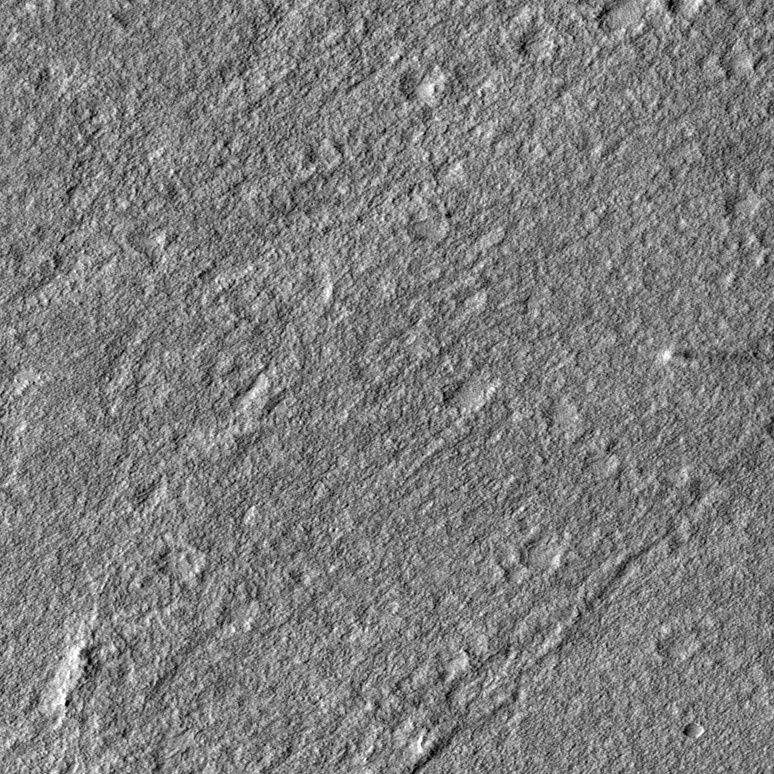dust_devil: (658, 345, 760, 368)
